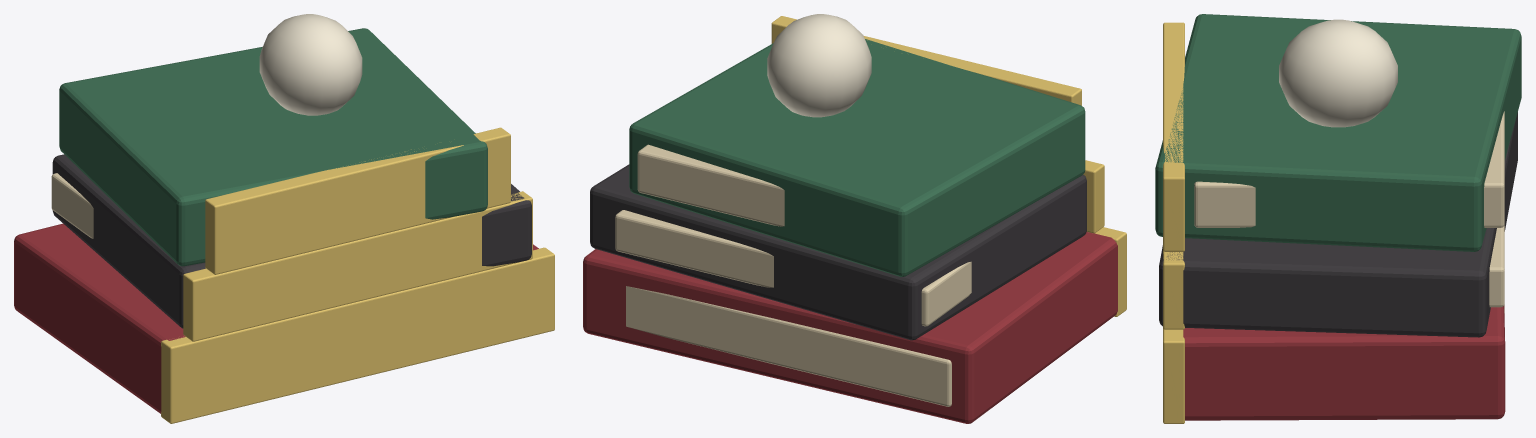
Rendered from tomes.glb.
3 renders of one model, left to right at view 1: azimuth 30°, elevation 25°; view 2: azimuth 150°, elevation 25°; view 3: azimuth 270°, elevation 25°, orthographic. The views are drawn at different scales.
Visible parts, largest first — view 1: GD_tomes; view 2: GD_tomes; view 3: GD_tomes.
Boxes of the visible parts, x1,y1,x2,y2 form: GD_tomes: (14, 14, 554, 423); GD_tomes: (583, 14, 1126, 423); GD_tomes: (1155, 14, 1521, 423).
Bounding box in the file's own units: 0.2637 × 0.19 × 0.2005.
